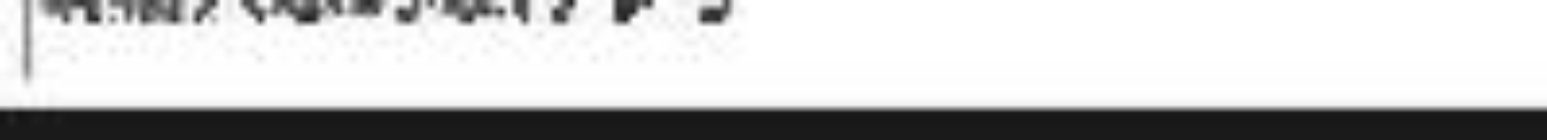EditText: (1, 1, 1546, 139)
